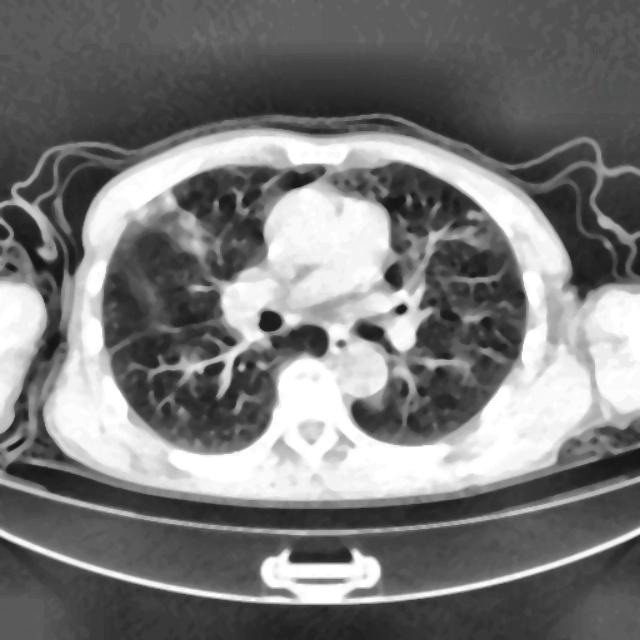covid: (1, 114, 638, 507)
